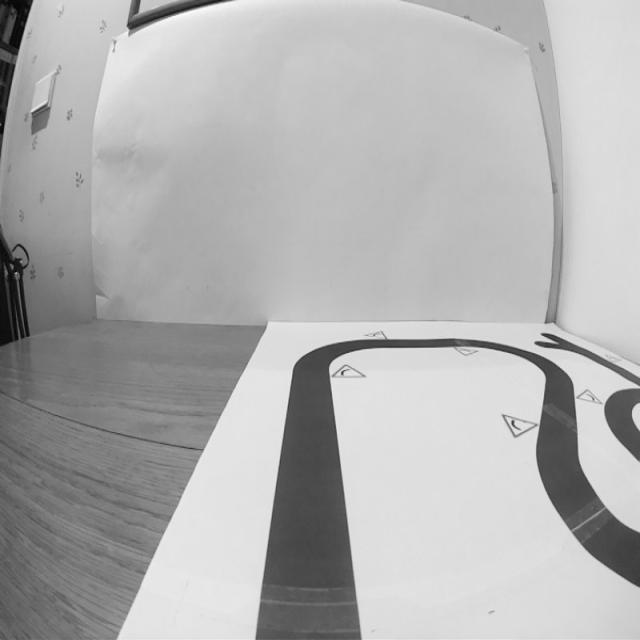lineStraight: (245, 479, 372, 640)
